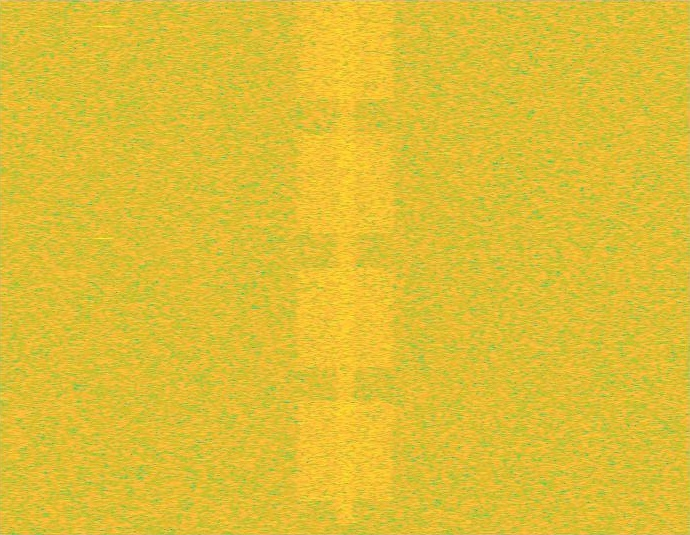5G: (294, 0, 397, 534)
DSSS: (334, 0, 357, 534)
Radar: (97, 0, 110, 534)
